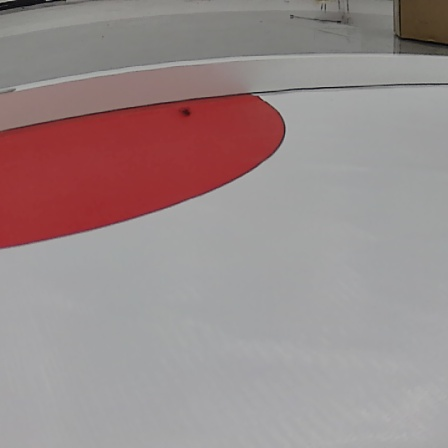red_base: (0, 91, 288, 249)
